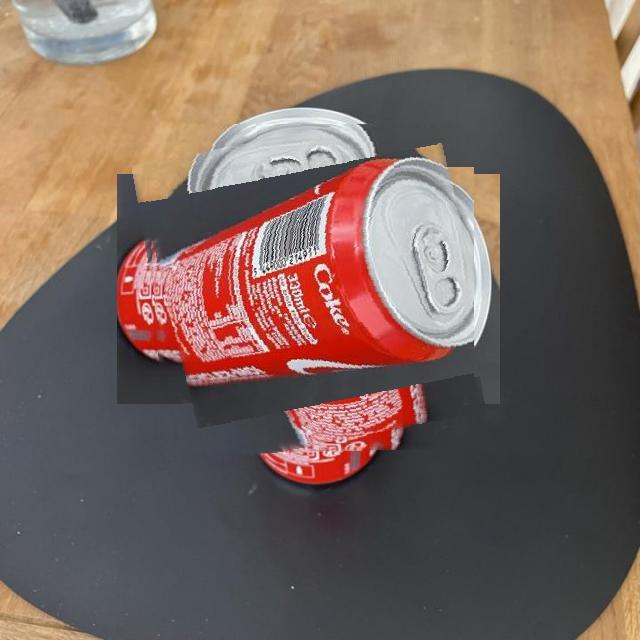recyclable: (143, 124, 474, 455)
